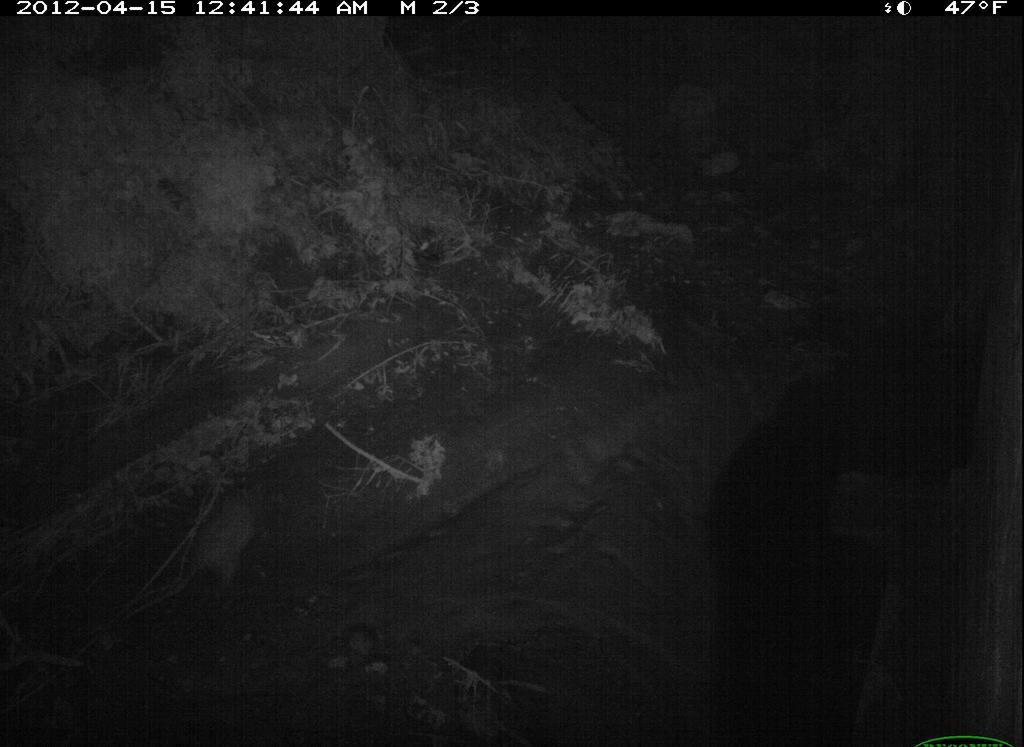opossum: (127, 477, 285, 630)
